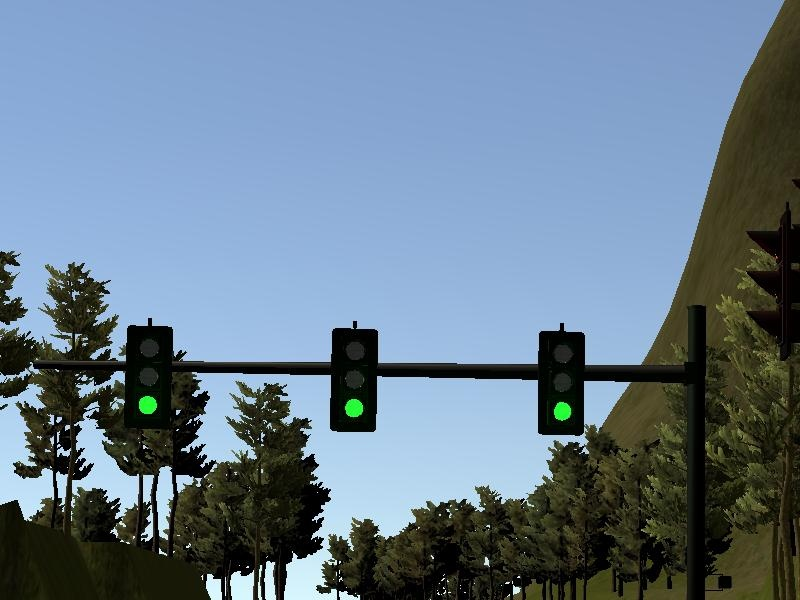traffic_light_green: (104, 316, 683, 438)
